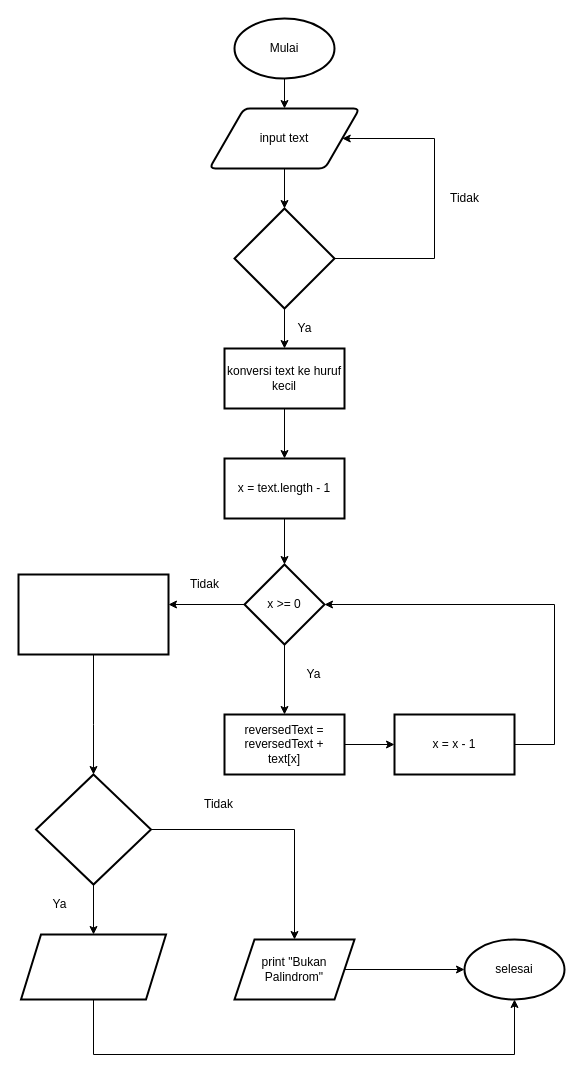
Image size: 582x1080. Some labels were removed from this diagram. Each missing label, with the centre of its shape:
konversi reversedText menjadi huruf kecil: pixel 93 614
print "Palindrom": pixel 93 966
text == reversedText: pixel 93 829
text.length > 1: pixel 284 258
